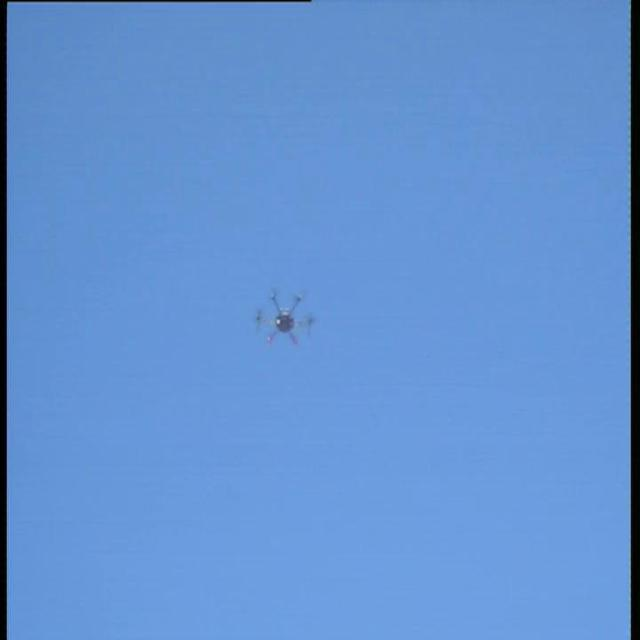drone: (248, 276, 318, 356)
